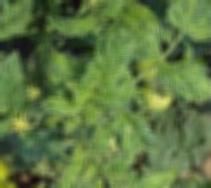Tomato leaf yellow virus: (86, 24, 137, 95), (37, 45, 89, 104), (156, 55, 211, 107), (0, 47, 32, 122), (45, 6, 106, 44), (166, 0, 211, 44), (0, 0, 35, 41), (118, 166, 182, 188)
